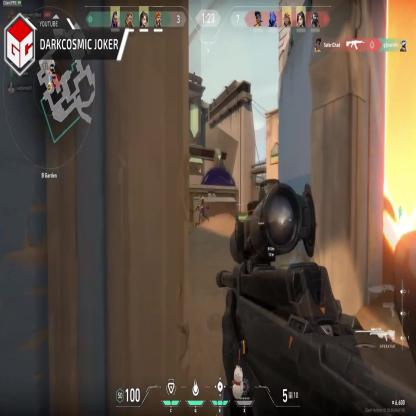enemy: (196, 193, 208, 224)
enemy_head: (199, 194, 202, 199)
